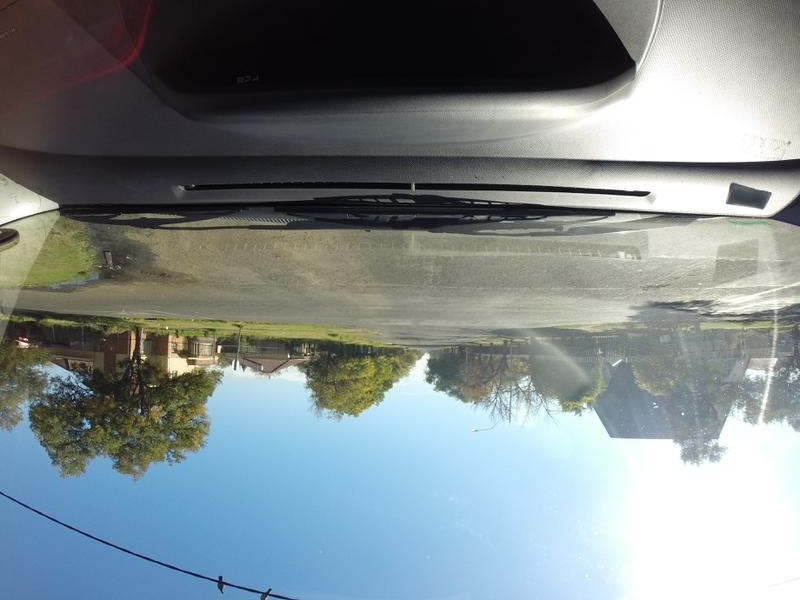pothole: (642, 280, 675, 290), (139, 269, 180, 277)
